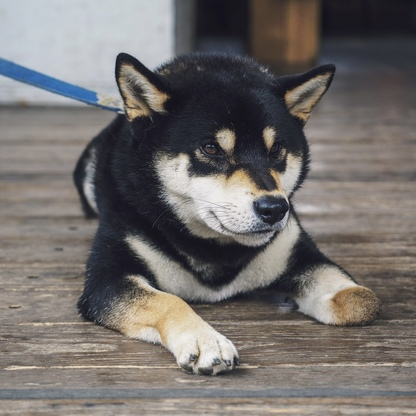shiba: (66, 42, 388, 378)
